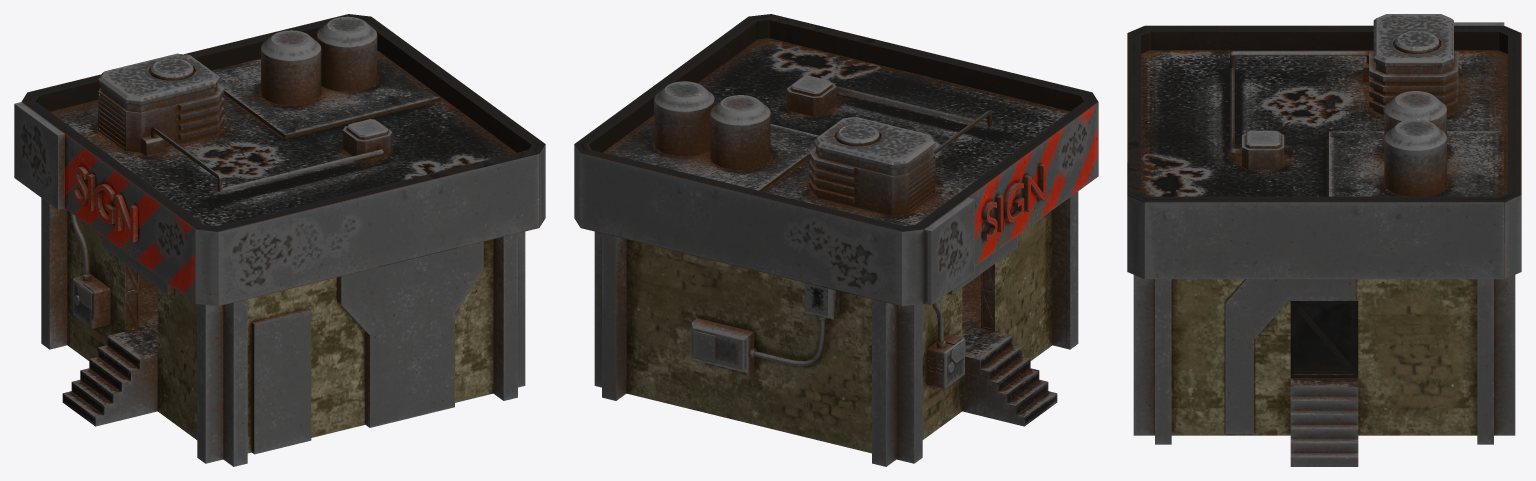
File: test_structure_1.glb
3 views of the same model, side by side, from view 1: azimuth 30°, elevation 25°; view 2: azimuth 150°, elevation 25°; view 3: azimuth 270°, elevation 25° (orthographic). The views are drawn at different scales.
Visible parts, largest first — view 1: test_structure_1_roof, test_structure_1; view 2: test_structure_1_roof, test_structure_1; view 3: test_structure_1_roof, test_structure_1.
Part boxes in pixels (box(x1,y1,x2,y2)): test_structure_1_roof: box(14, 14, 545, 306); test_structure_1: box(41, 198, 525, 466); test_structure_1_roof: box(574, 14, 1098, 306); test_structure_1: box(594, 191, 1078, 466); test_structure_1_roof: box(1127, 14, 1521, 279); test_structure_1: box(1133, 275, 1515, 466).
Bounding box in the file's own units: 23 × 15.14 × 18.6.
2 materials, 2 textured.
